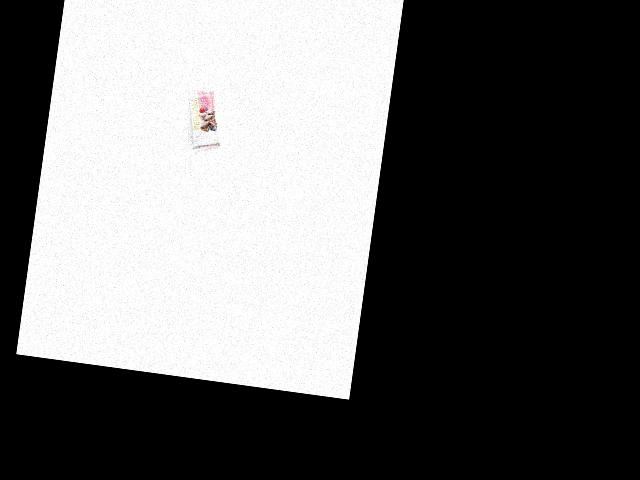chocolate: (179, 88, 229, 151)
